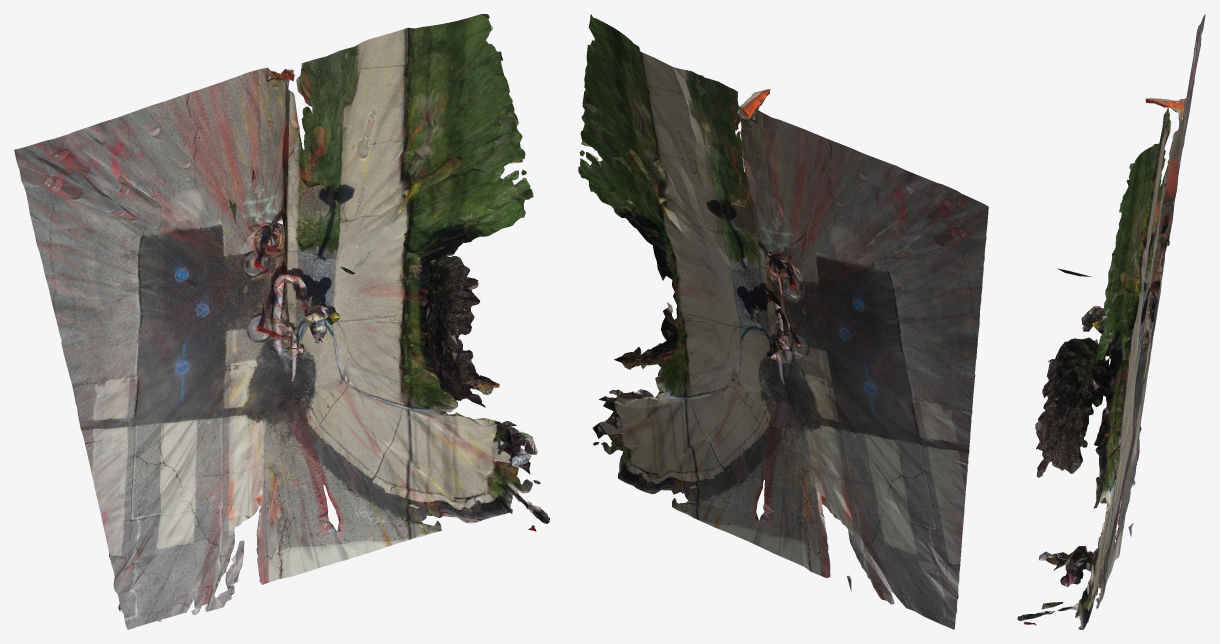
File: pipelowres.obj
3 views of the same model, side by side, from view 1: azimuth 30°, elevation 25°; view 2: azimuth 150°, elevation 25°; view 3: azimuth 270°, elevation 25° (orthographic). The views are drawn at different scales.
Parts seen in each view (by area): view 1: Mesh; view 2: Mesh; view 3: Mesh.
Part boxes in pixels (bbox=[...]): Mesh: bbox=[14, 14, 549, 629]; Mesh: bbox=[578, 14, 988, 629]; Mesh: bbox=[1017, 14, 1205, 629].
Size of the model in its own units: 33.29 by 36.11 by 12.03.
